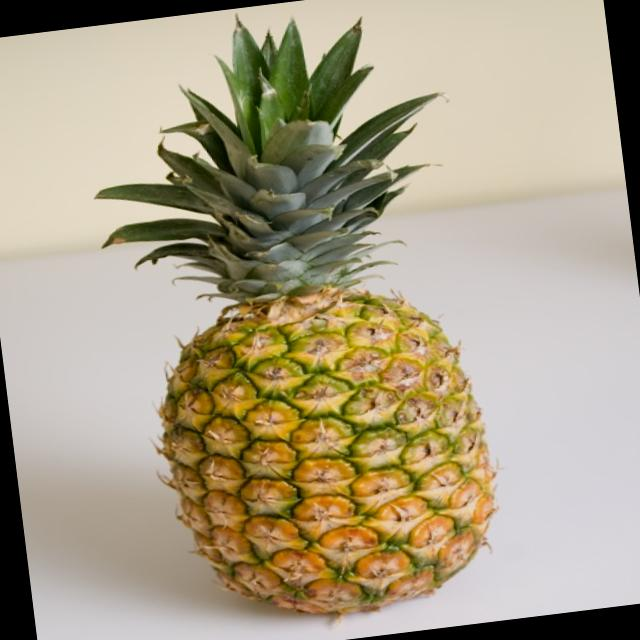pineapple: (105, 210, 540, 640)
